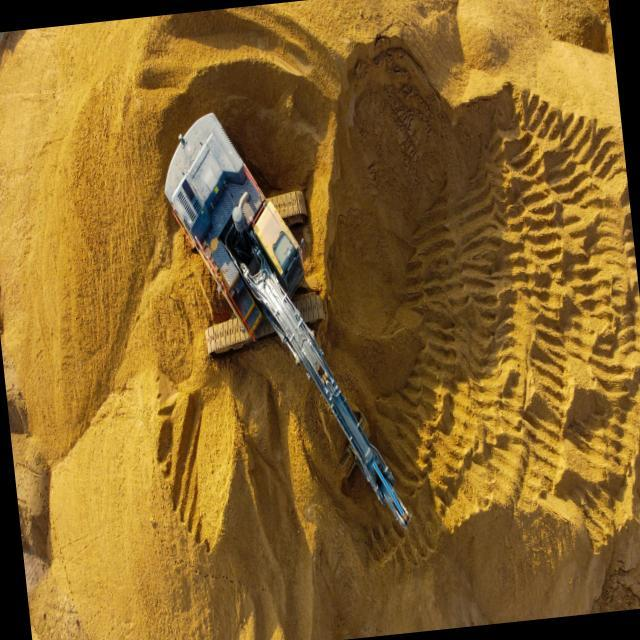excavator: (164, 112, 409, 529)
